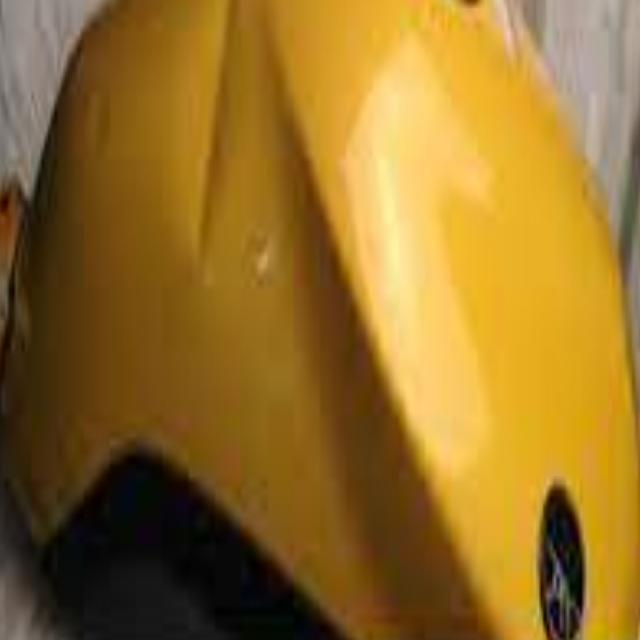dents: (161, 0, 247, 327)
